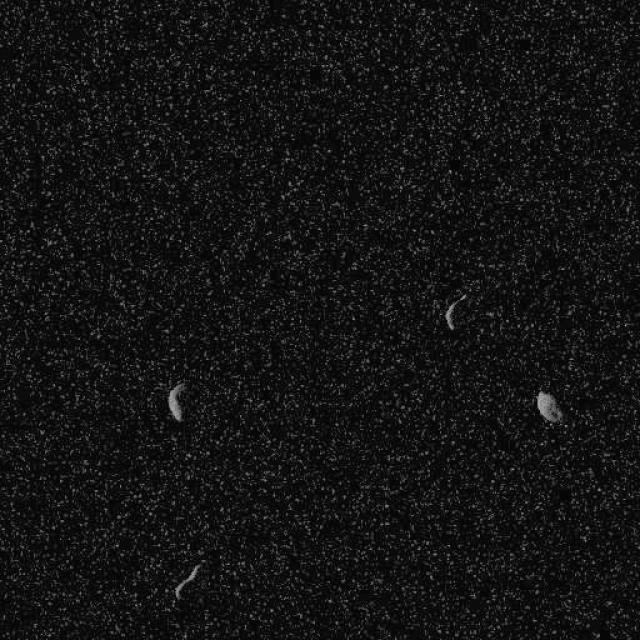D2: (172, 561, 202, 600), (442, 291, 468, 331), (535, 390, 564, 424), (166, 382, 186, 422)
